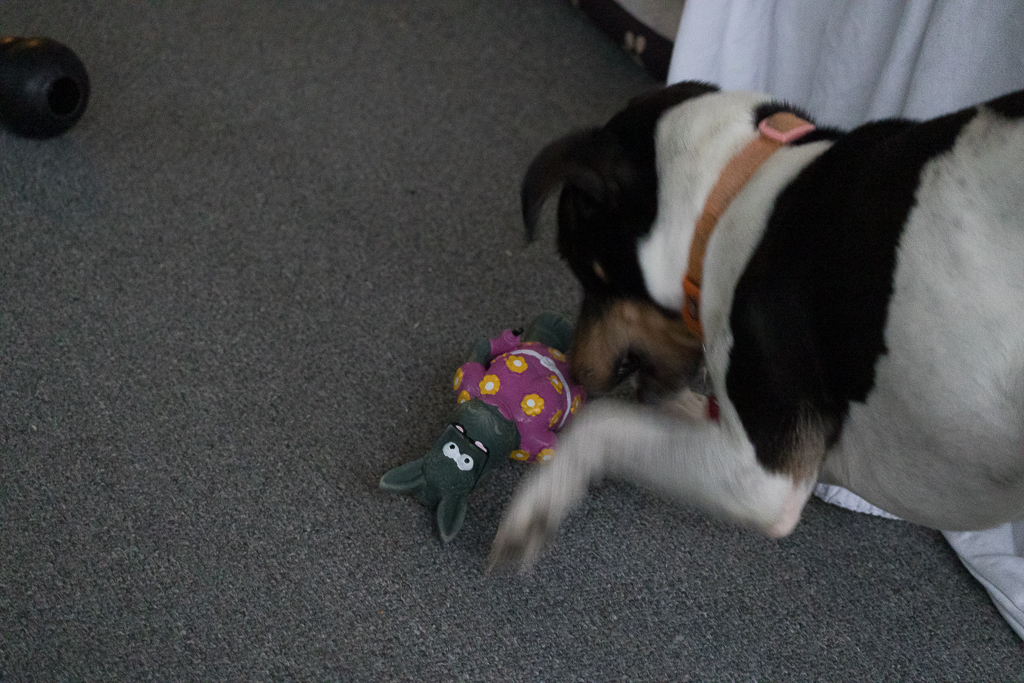Dog: (459, 40, 1024, 621)
Humanoid: (362, 295, 647, 553)
